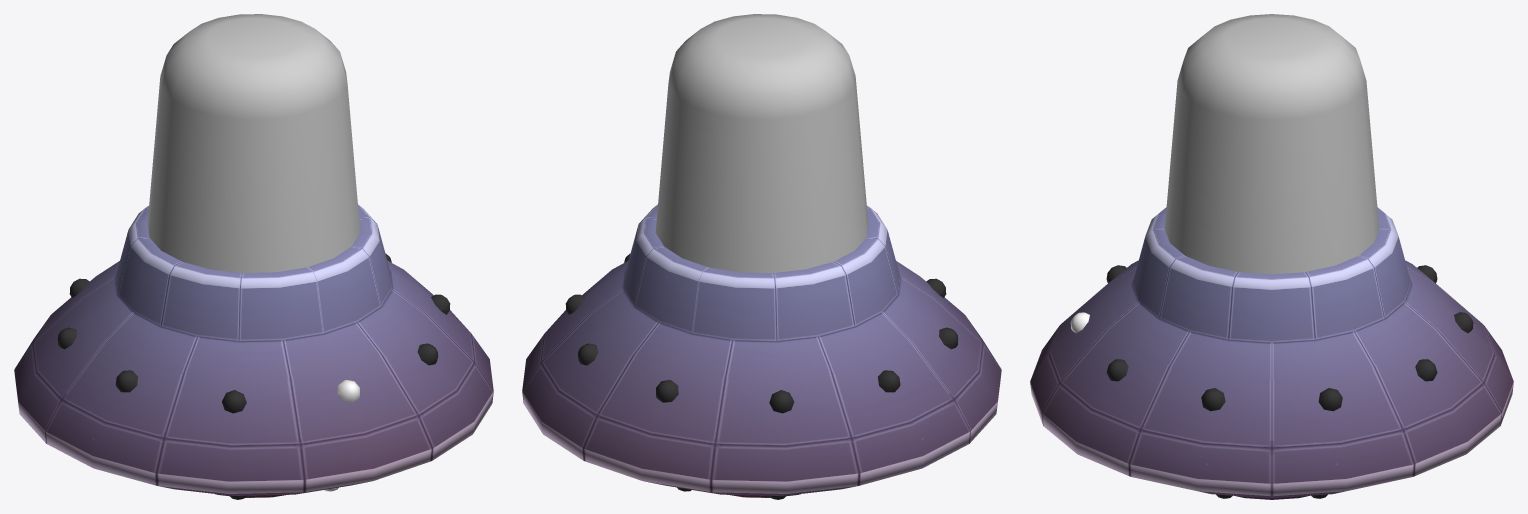
Rendered from prop_UFO.fbx.
The picture shows the model from 3 angles, left to right: view 1: azimuth 30°, elevation 25°; view 2: azimuth 150°, elevation 25°; view 3: azimuth 270°, elevation 25°; orthographic projection.
Visible parts, largest first — view 1: prop_UFOHull, prop_UFODome, prop_UFOLights; view 2: prop_UFOHull, prop_UFODome, prop_UFOLights; view 3: prop_UFOHull, prop_UFODome, prop_UFOLights.
Boxes of the visible parts, x1,y1,x2,y2 form: prop_UFOHull: [14, 204, 493, 497]; prop_UFODome: [147, 14, 360, 272]; prop_UFOLights: [57, 253, 450, 499]; prop_UFOHull: [522, 204, 1001, 497]; prop_UFODome: [655, 14, 868, 272]; prop_UFOLights: [565, 253, 958, 499]; prop_UFOHull: [1030, 207, 1513, 499]; prop_UFODome: [1164, 14, 1379, 274]; prop_UFOLights: [1070, 265, 1473, 498].
Bounding box in the file's own units: 431 × 418 × 431.
